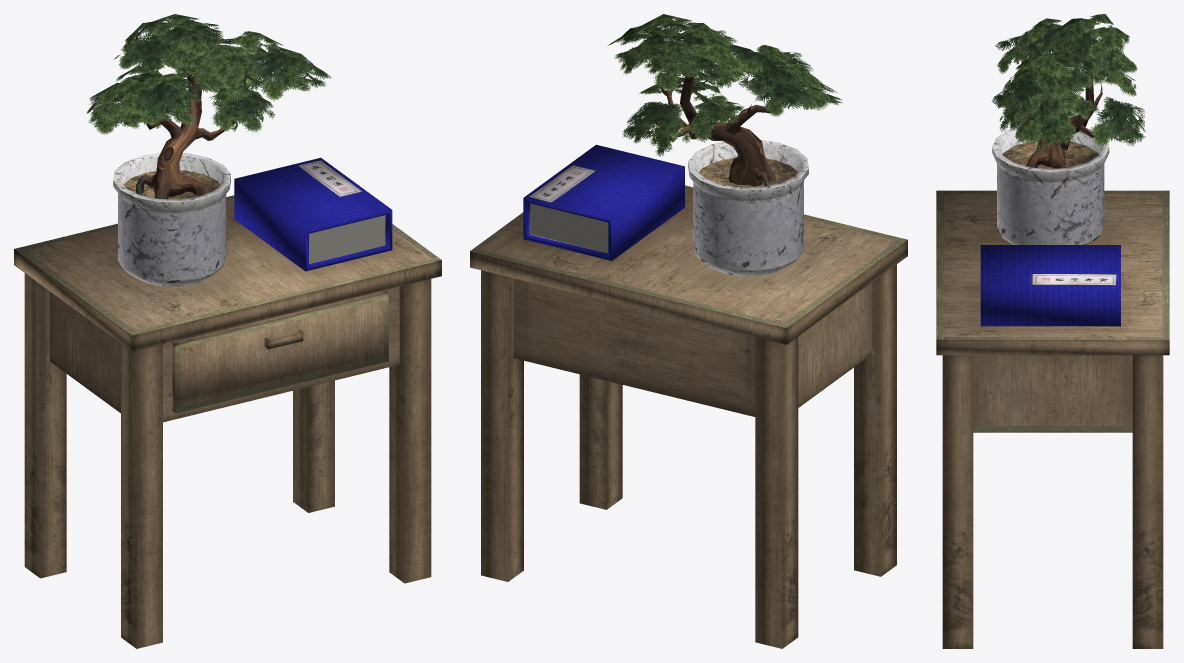
The model's file is Sark_12.FBX.
3 views of the same model, side by side, from view 1: azimuth 30°, elevation 25°; view 2: azimuth 150°, elevation 25°; view 3: azimuth 270°, elevation 25° (orthographic). The views are drawn at different scales.
Visible parts, largest first — view 1: Sark_12; view 2: Sark_12; view 3: Sark_12.
Part boxes in pixels (left/top/right/bottom): Sark_12: left=14, top=14, right=441, bottom=648; Sark_12: left=470, top=14, right=907, bottom=648; Sark_12: left=936, top=14, right=1169, bottom=648.
Size of the model in its own units: 34.86 by 59.26 by 23.09.
